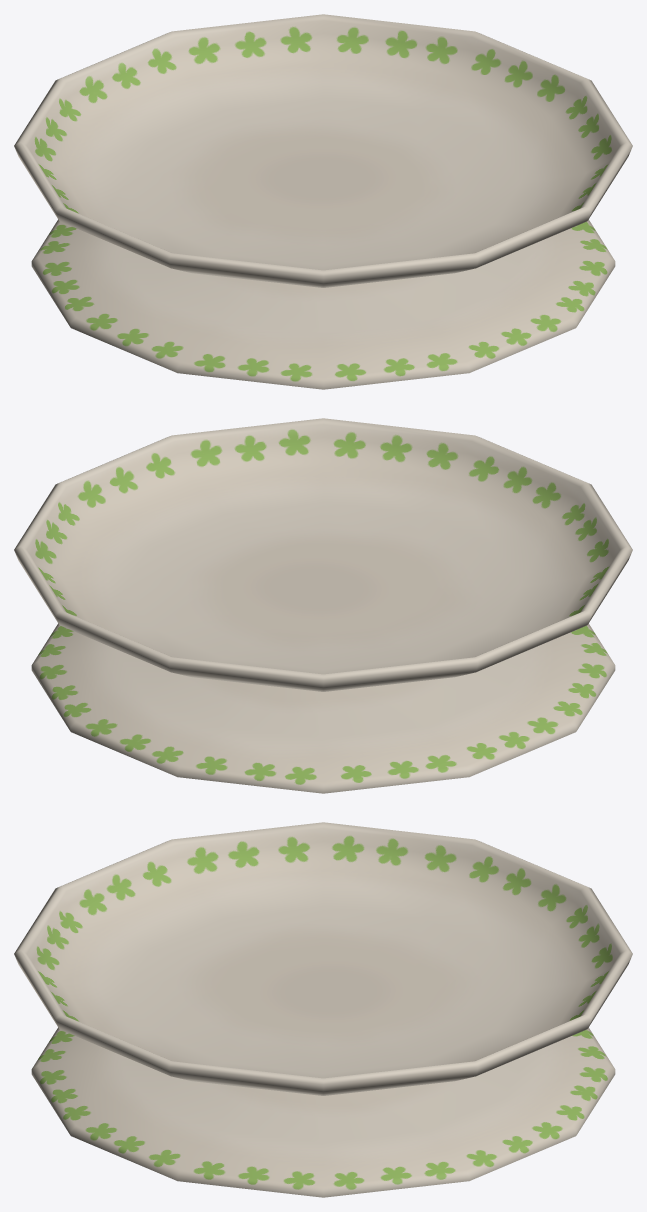
Rendered from plate.fbx.
The picture shows the model from 3 angles, top to bottom: view 1: azimuth 30°, elevation 25°; view 2: azimuth 150°, elevation 25°; view 3: azimuth 270°, elevation 25°; orthographic projection.
Parts seen in each view (by area): view 1: plate_biscuites; view 2: plate_biscuites; view 3: plate_biscuites.
Part boxes in pixels (x1=…): plate_biscuites: x1=14, y1=14, x2=632, y2=389; plate_biscuites: x1=14, y1=418, x2=632, y2=793; plate_biscuites: x1=14, y1=822, x2=632, y2=1197.
Size of the model in its own units: 21.21 by 4.69 by 21.21.
